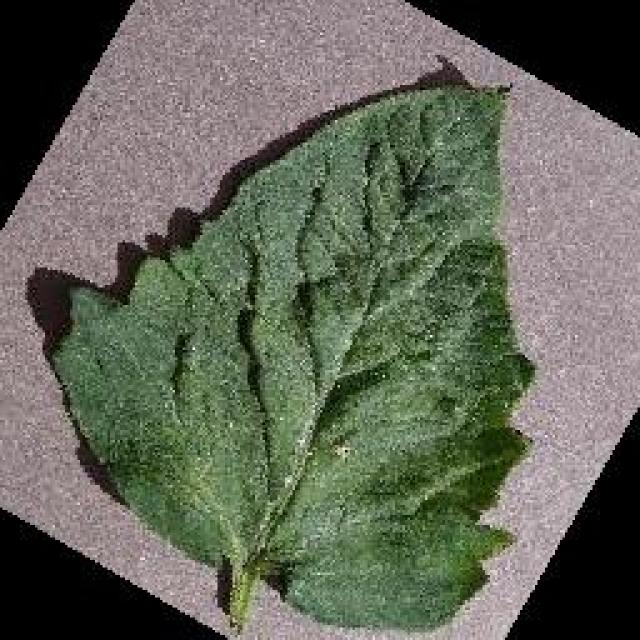Tomato___Target_Spot: (52, 85, 530, 625)
